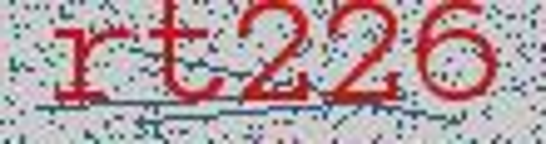2: (320, 2, 408, 113), (232, 1, 316, 107)
6: (414, 1, 502, 106)
r: (41, 17, 134, 113)
t: (143, 2, 233, 109)
